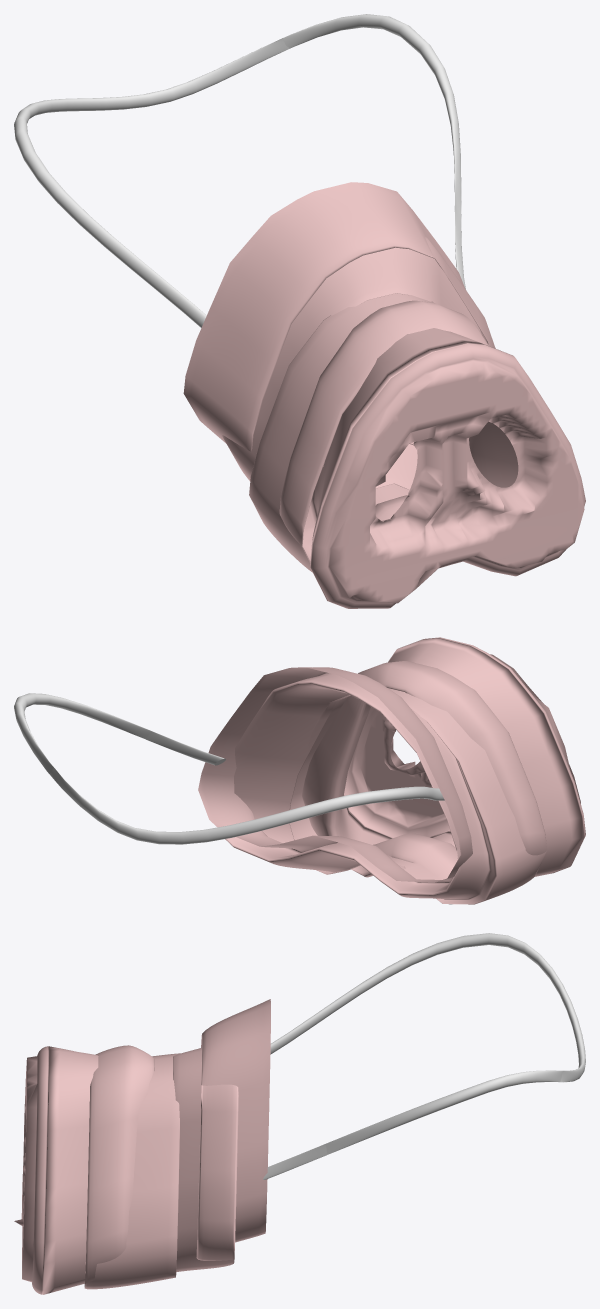
The model's file is bignose.gltf.
The picture shows the model from 3 angles, top to bottom: view 1: azimuth 30°, elevation 25°; view 2: azimuth 150°, elevation 25°; view 3: azimuth 270°, elevation 25°; orthographic projection. The views are drawn at different scales.
Parts seen in each view (by area): view 1: Loft-Cylinder, Loft.2; view 2: Loft-Cylinder, Loft.2; view 3: Loft-Cylinder, Loft.2.
Boxes of the visible parts, x1,y1,x2,y2 form: Loft-Cylinder: [183, 182, 585, 608]; Loft.2: [14, 14, 465, 327]; Loft-Cylinder: [198, 637, 585, 904]; Loft.2: [14, 693, 444, 844]; Loft-Cylinder: [14, 999, 270, 1294]; Loft.2: [263, 933, 585, 1179].
Size of the model in its own units: 669 by 504 by 964.
